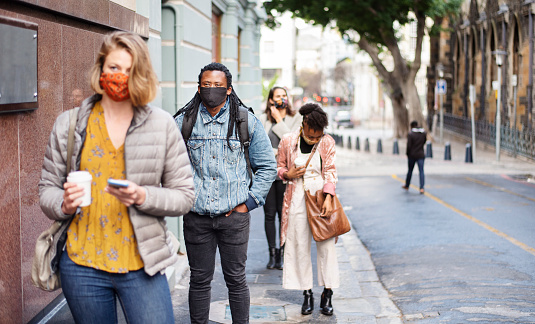person: (34, 28, 200, 324), (159, 60, 282, 324), (273, 100, 352, 321), (254, 82, 312, 276), (400, 117, 432, 200)
